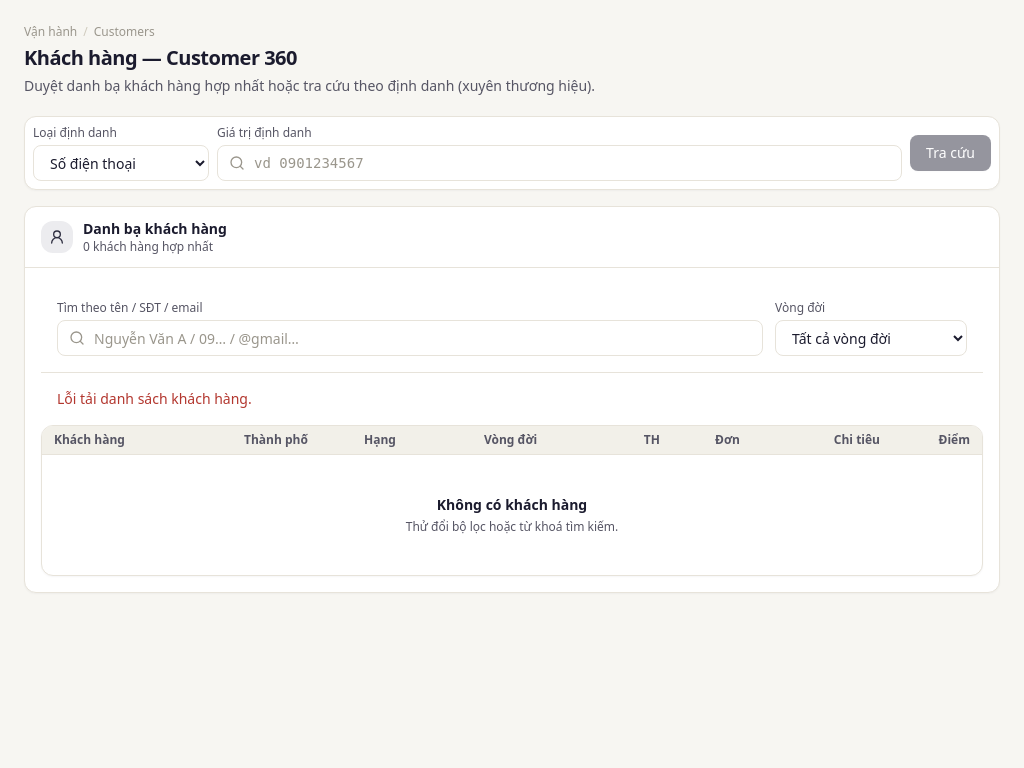
Test case: CustomersScreen (Customer 360 lookup) › tra cứu phone -> hiển thị occId và số giao dịch từ API
This screenshot has width=1024, height=768.
Step 1. Type "0901112223" into the field named "giá trị" → {"x": 560, "y": 163}, box [217,145,902,181]
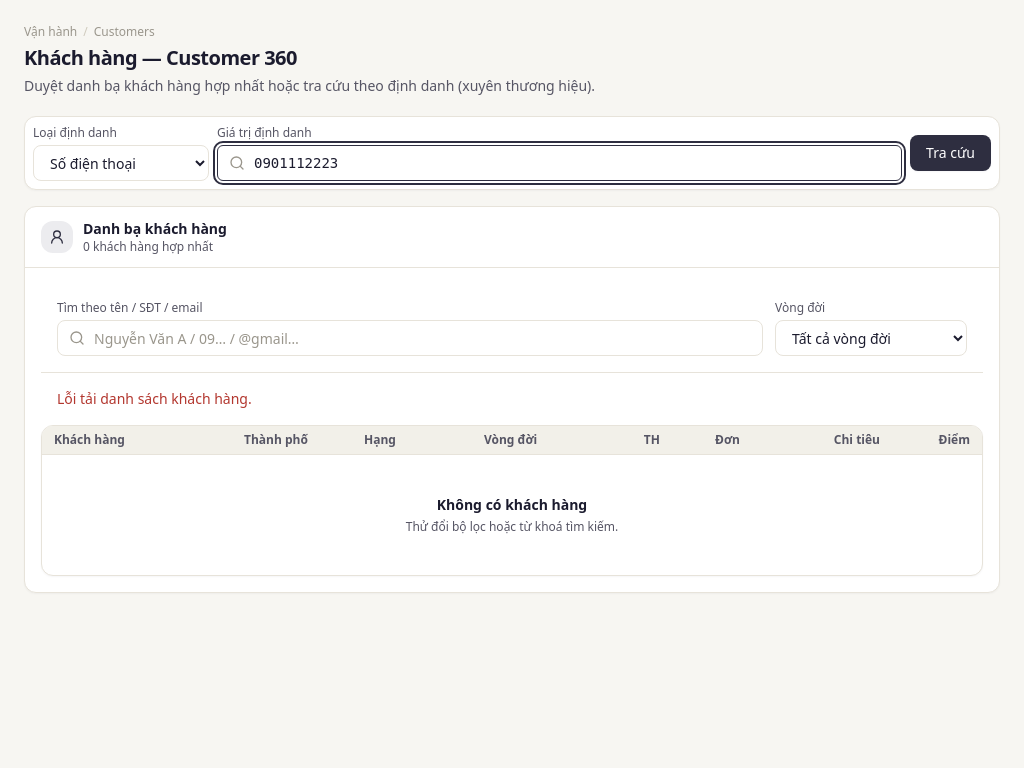
Step 2. Click the button "Tra cứu" → {"x": 951, "y": 152}, box [910,134,991,170]
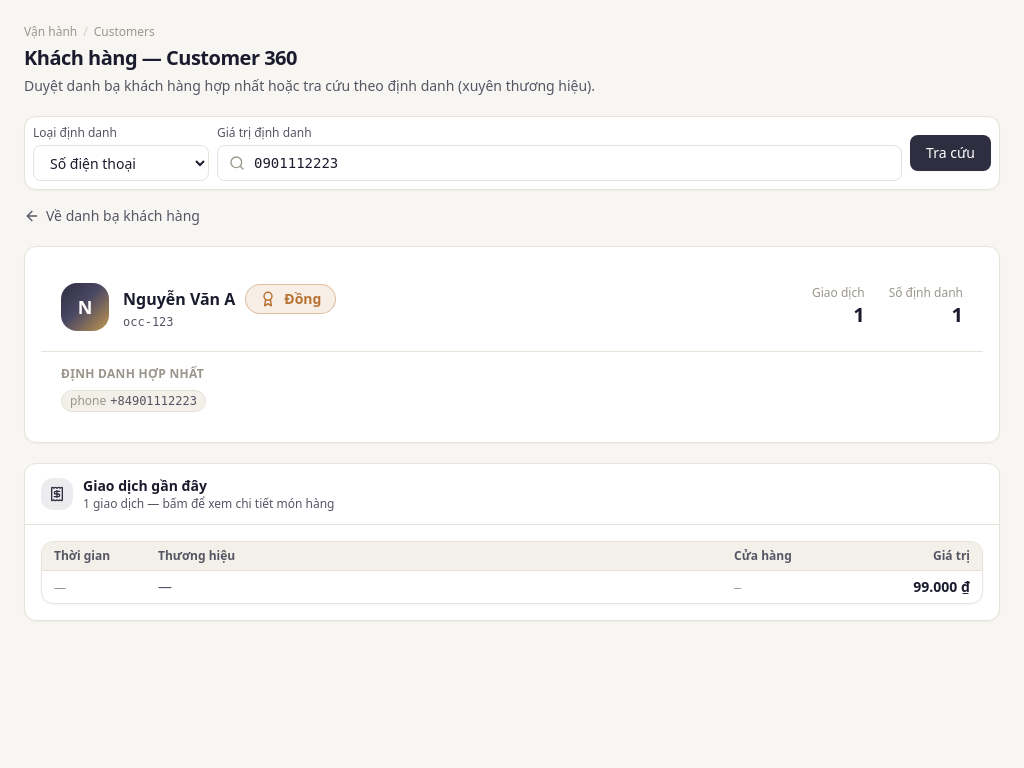
Expected: the text "occ-123" is shown, [123,315,174,329]
Expected: the text "Nguyễn Văn A" is shown, [123,287,235,311]
Expected: the text with test id "txn-count" reads "1", [853,301,865,328]
